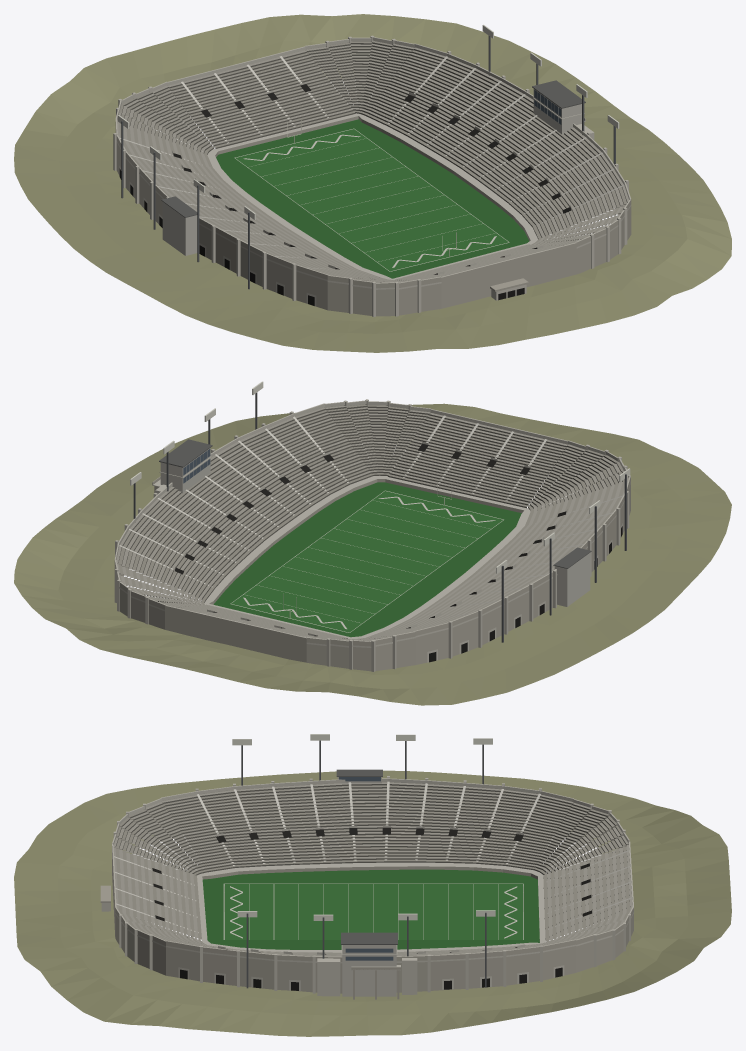
Rendered from war-memorial-stadium-1985.glb.
3 renders of one model, top to bottom at view 1: azimuth 30°, elevation 25°; view 2: azimuth 150°, elevation 25°; view 3: azimuth 270°, elevation 25°, orthographic. The views are drawn at different scales.
Visible parts, largest first — view 1: war_memorial_stadium_1985; view 2: war_memorial_stadium_1985; view 3: war_memorial_stadium_1985.
Part boxes in pixels (bbox=[...]): war_memorial_stadium_1985: bbox=[14, 14, 731, 352]; war_memorial_stadium_1985: bbox=[14, 381, 731, 705]; war_memorial_stadium_1985: bbox=[14, 734, 731, 1036].
Size of the model in its own units: 227 by 36.56 by 263.
